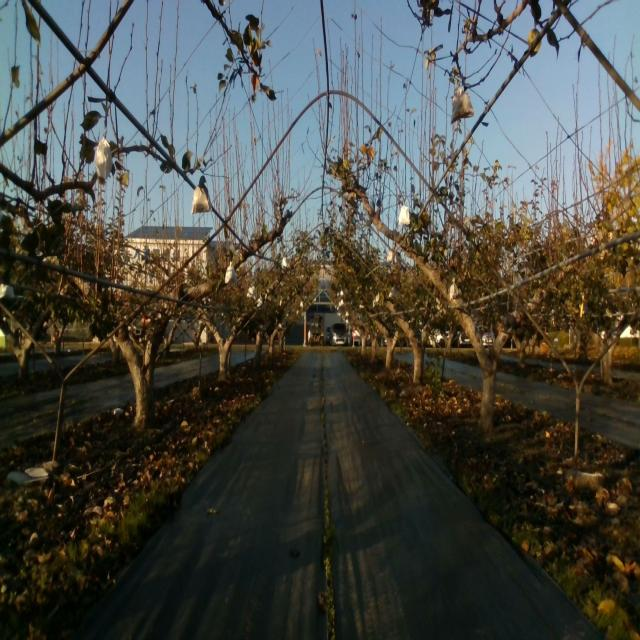pearbags: (191, 174, 214, 215), (450, 87, 476, 123), (95, 137, 113, 178), (225, 260, 238, 284), (398, 205, 410, 225)
